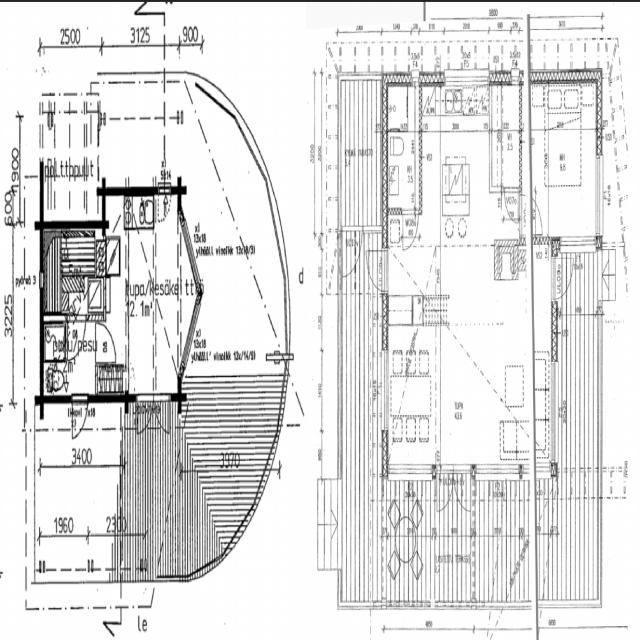door: (552, 259, 577, 301), (342, 227, 362, 275), (364, 254, 387, 293), (436, 464, 453, 514), (454, 464, 471, 514), (153, 398, 171, 443), (520, 196, 540, 236), (136, 398, 153, 443), (68, 316, 85, 360), (92, 325, 111, 361), (402, 208, 418, 247), (72, 398, 87, 439), (505, 185, 518, 219)
